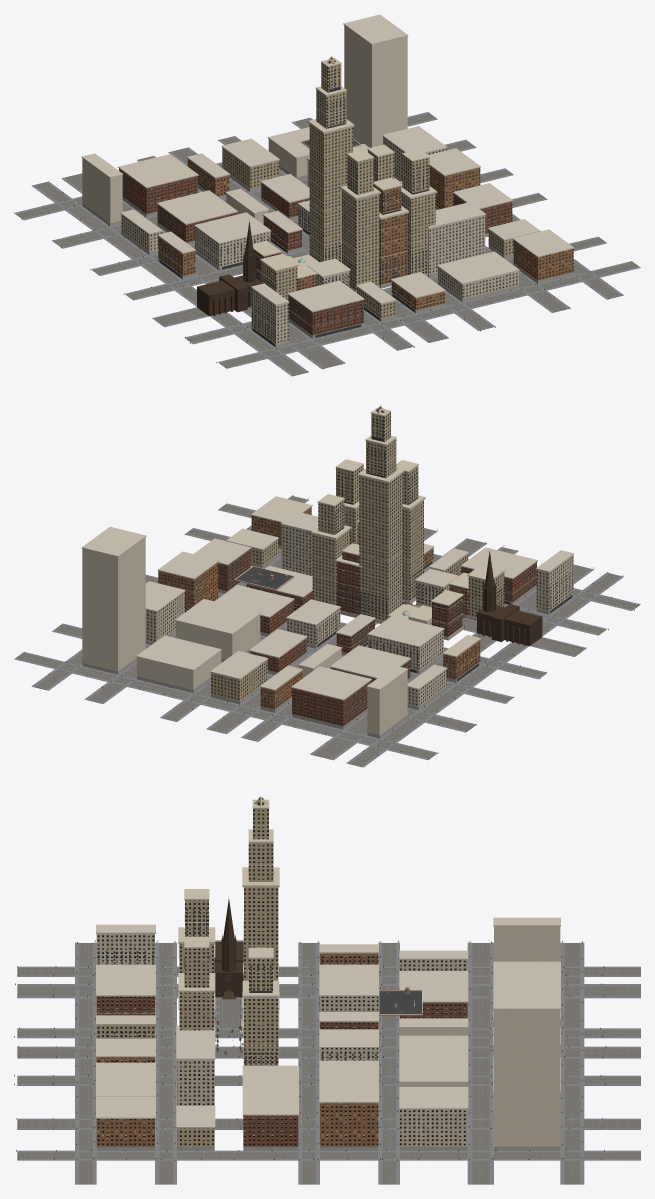
File: wall-street-1928-v2.glb
3 renders of one model, top to bottom at view 1: azimuth 30°, elevation 25°; view 2: azimuth 150°, elevation 25°; view 3: azimuth 270°, elevation 25°, orthographic. The views are drawn at different scales.
Parts seen in each view (by area): view 1: block_Pearl_Liberty_5_5, BankersTrust_14Wall, Office_south_2, street_NS_Trinity Pl, block_William_Exchange Pl_4_1, street_EW_Beaver, Office_south_4, block_Trinity Pl_Liberty_0_5, Office_south_3, block_Broadway_Beaver_1_0, block_Broadway_Liberty_1_5, block_Broadway_Cedar_1_4_cornice (+51 smaller); view 2: block_Pearl_Liberty_5_5, BankersTrust_14Wall, street_EW_Maiden Ln, street_NS_Trinity Pl, block_Broadway_Liberty_1_5, Office_south_2, Office_north_4, block_Trinity Pl_Liberty_0_5, block_William_Cedar_4_4, block_William_Cedar_4_4_cornice, block_William_Liberty_4_5_cornice, block_Broadway_Liberty_1_5_cornice (+55 smaller); view 3: block_Pearl_Liberty_5_5, street_EW_Liberty, street_NS_Water, street_EW_Maiden Ln, street_EW_Pine, street_EW_Exchange Pl, street_EW_Beaver, street_EW_Cedar, block_Pearl_Pine_5_3, block_Pearl_Cedar_5_4, BankersTrust_14Wall, block_William_Cedar_4_4_cornice (+73 smaller).
Boxes of the visible parts, x1,y1,x2,y2 form: block_Pearl_Liberty_5_5: [344, 25, 407, 147]; BankersTrust_14Wall: [309, 124, 352, 262]; Office_south_2: [342, 190, 379, 291]; street_NS_Trinity Pl: [35, 182, 305, 375]; block_William_Exchange Pl_4_1: [428, 215, 485, 274]; street_EW_Beaver: [219, 262, 638, 367]; Office_south_4: [401, 193, 435, 274]; block_Trinity Pl_Liberty_0_5: [82, 158, 122, 222]; Office_south_3: [379, 213, 407, 284]; block_Broadway_Beaver_1_0: [288, 295, 363, 335]; block_Broadway_Liberty_1_5: [119, 169, 197, 213]; block_Broadway_Cedar_1_4_cornice: [157, 190, 237, 224]; block_Pearl_Liberty_5_5: [82, 537, 145, 671]; BankersTrust_14Wall: [359, 473, 402, 620]; street_EW_Maiden Ln: [16, 653, 436, 758]; street_NS_Trinity Pl: [349, 573, 620, 766]; block_Broadway_Liberty_1_5: [292, 681, 370, 726]; Office_south_2: [402, 500, 423, 601]; Office_north_4: [312, 530, 349, 605]; block_Trinity Pl_Liberty_0_5: [367, 670, 407, 735]; block_William_Cedar_4_4: [176, 615, 260, 659]; block_William_Cedar_4_4_cornice: [175, 599, 261, 634]; block_William_Liberty_4_5_cornice: [136, 635, 221, 670]; block_Broadway_Liberty_1_5_cornice: [291, 666, 371, 700]; block_Pearl_Liberty_5_5: [494, 1010, 560, 1146]; street_EW_Liberty: [471, 943, 489, 1184]; street_NS_Water: [17, 1152, 640, 1158]; street_EW_Maiden Ln: [564, 943, 580, 1184]; street_EW_Pine: [302, 943, 315, 1184]; street_EW_Exchange Pl: [159, 943, 172, 1184]; street_EW_Beaver: [79, 943, 92, 1184]; street_EW_Cedar: [382, 943, 395, 1184]; block_Pearl_Pine_5_3: [320, 1103, 378, 1146]; block_Pearl_Cedar_5_4: [400, 1109, 467, 1146]; BankersTrust_14Wall: [244, 887, 278, 980]; block_William_Cedar_4_4_cornice: [399, 1048, 468, 1082].
Bounding box in the file's own units: 505 × 244 × 548.
60 materials, 9 textured.
